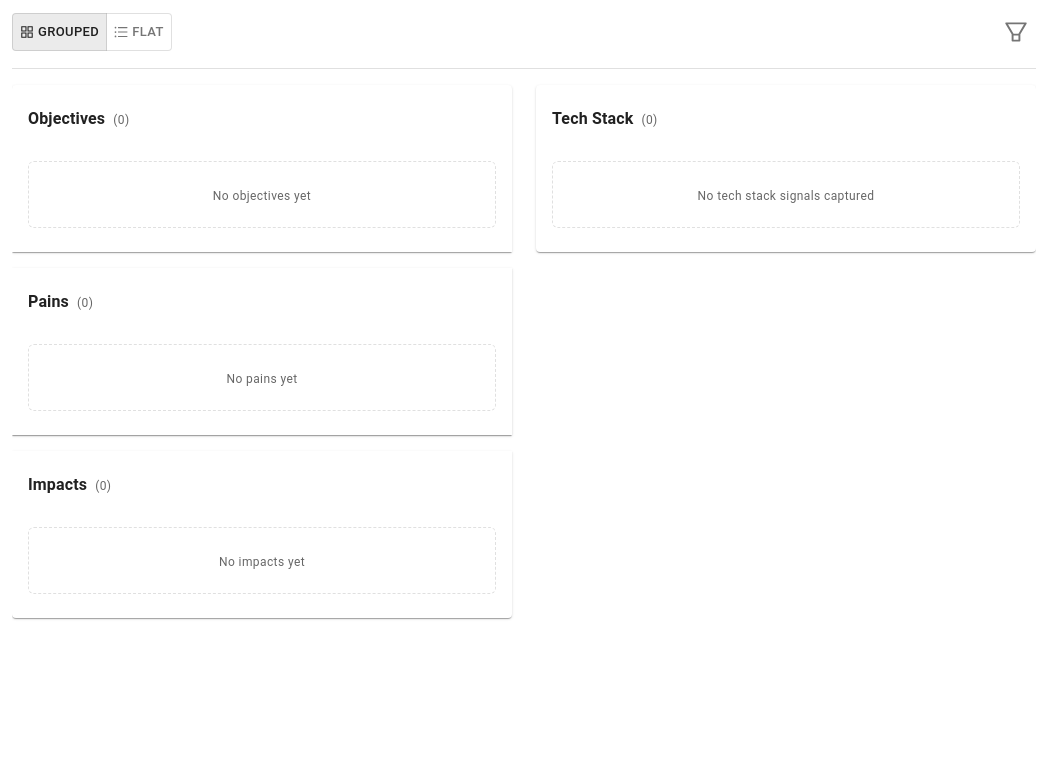
Test case: AccountSignalsTab — aggregated flat list › renders SignalLine rows from the aggregated hook, each typed from signal_type
Click the button with aria-label "flat view": click(139, 32) x1=106 y1=13 x2=172 y2=51
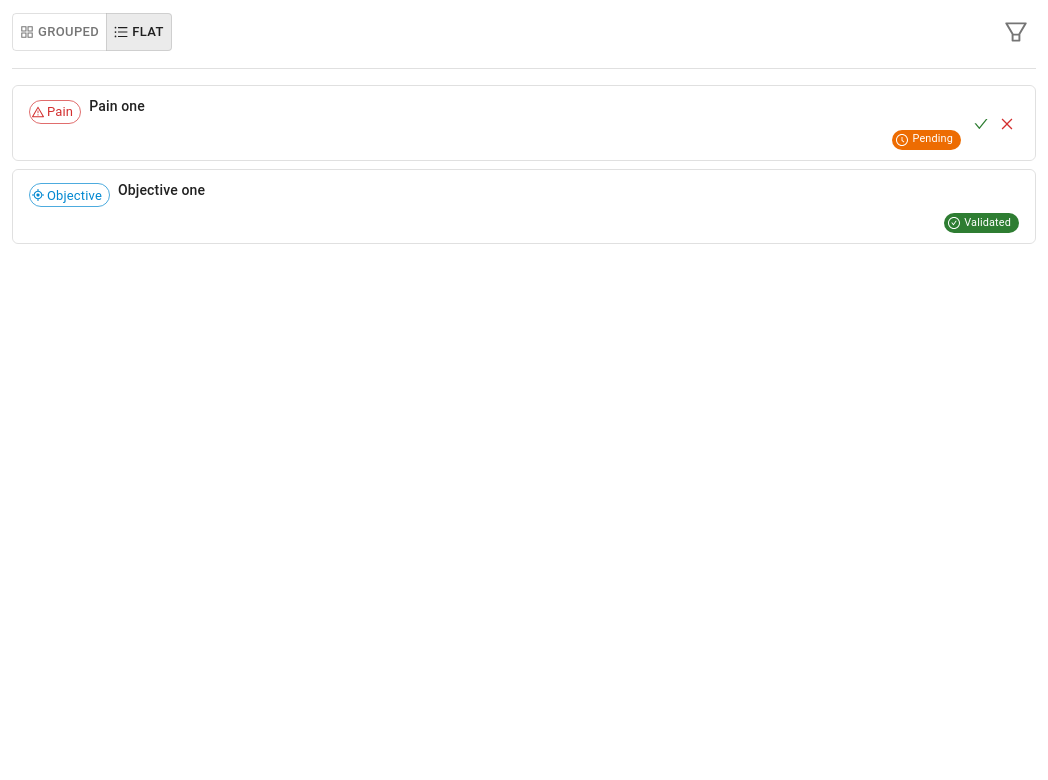
Check: the number of buttons with test id "signal-line" is 2, box x1=12 y1=85 x2=1036 y2=161; x1=12 y1=169 x2=1036 y2=244
Check: the text "Pain one" is shown, box x1=89 y1=98 x2=145 y2=114
Check: the text "Objective one" is shown, box x1=118 y1=182 x2=205 y2=198
